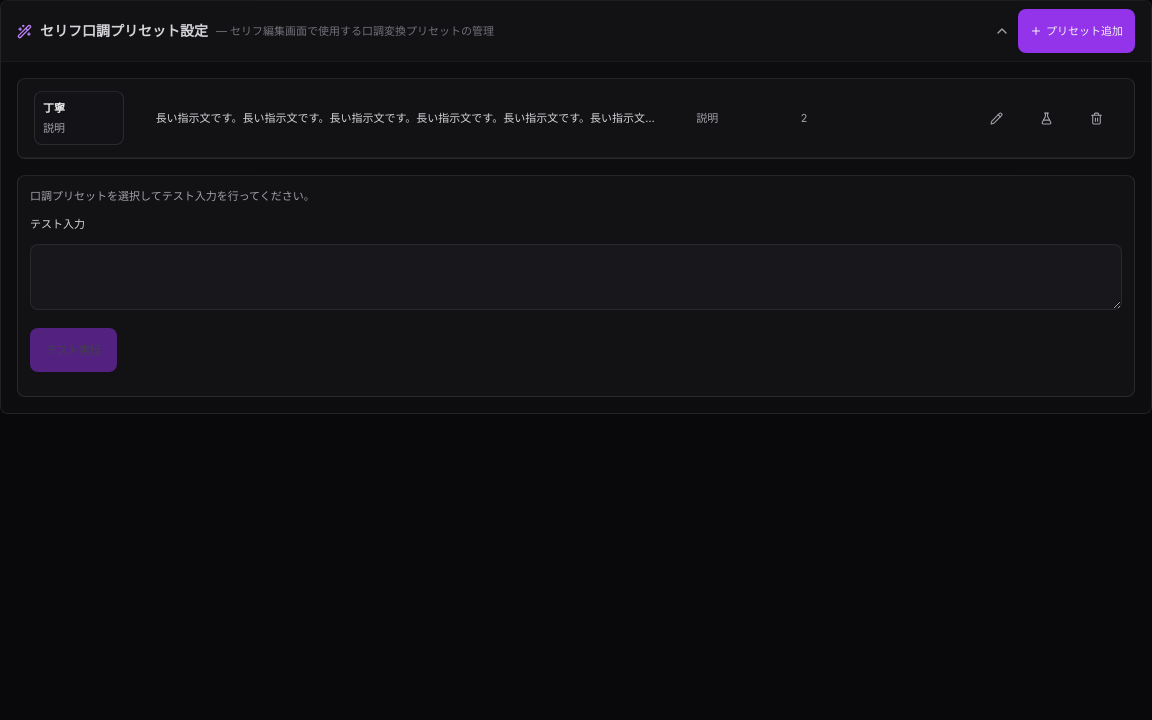
SpeechToneSection › [REQ-381/AC-8] failed Save keeps the real modal draft and exposes the server error
The width and height of the screenshot is (1152, 720).
Check: the element "丁寧" is shown, box 34,91 -> 124,145
Click the button titled "編集" at {"x": 996, "y": 118}, box 974,96 -> 1018,140
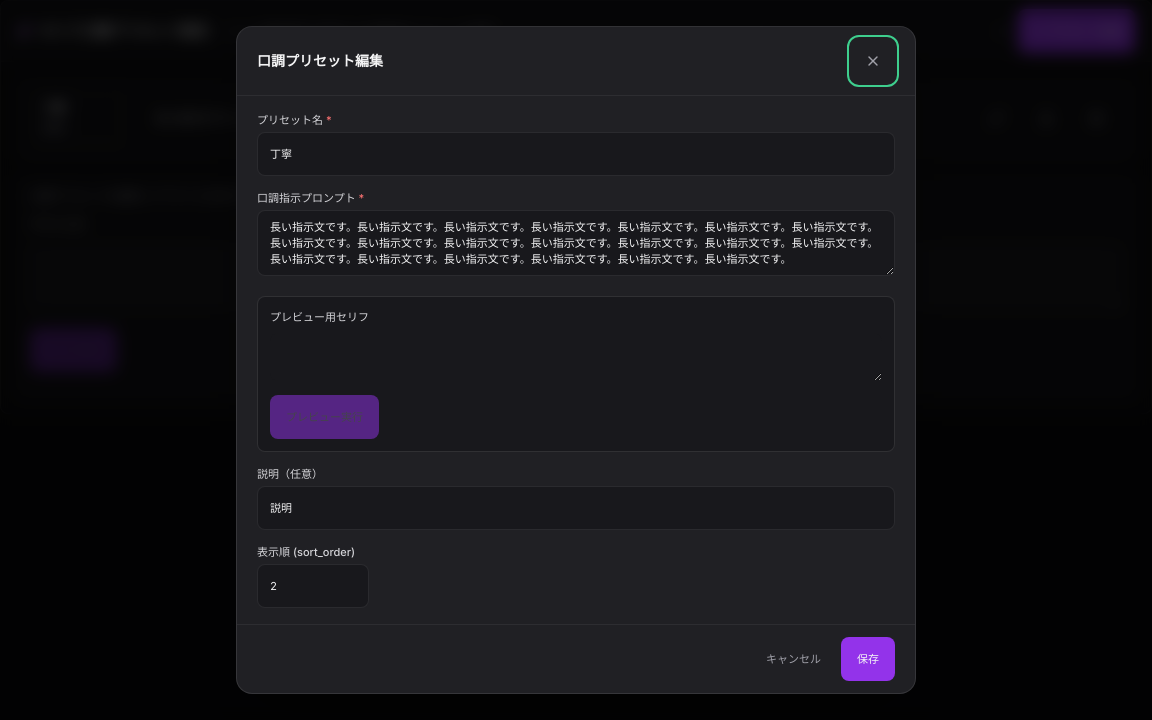
Replace the text in the 1st field showing "丁寧" with "保持される名前" at {"x": 576, "y": 154}, box 257,132 -> 895,176
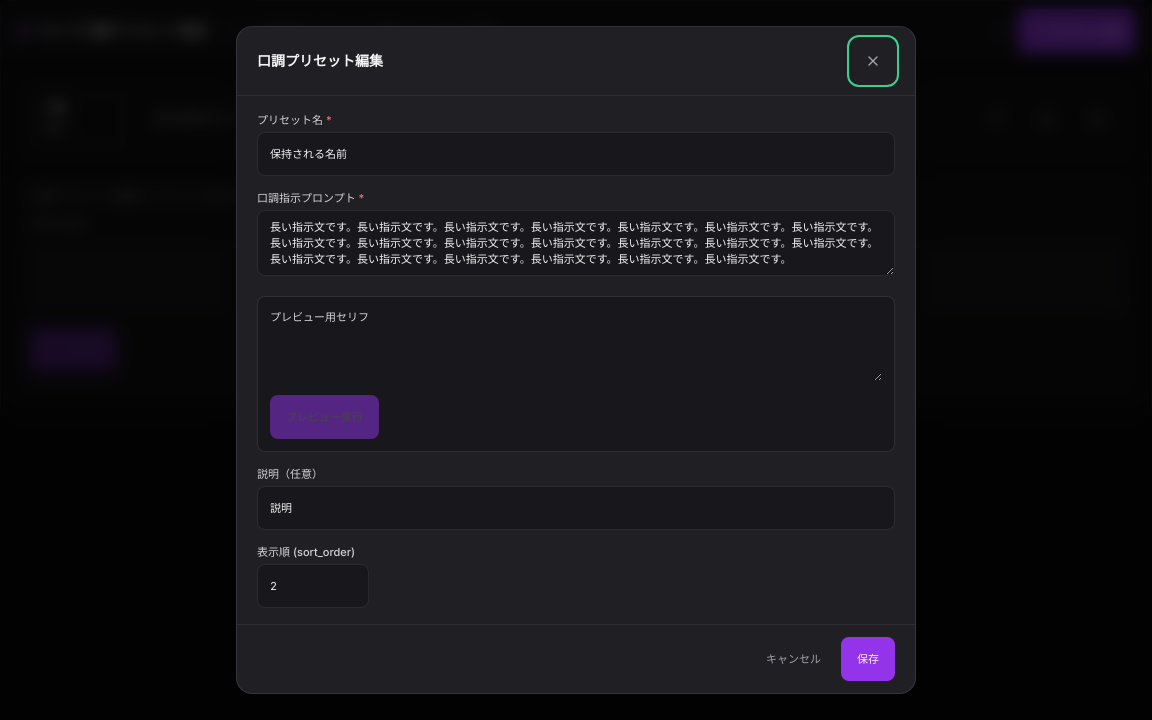
Click the button "保存" at {"x": 868, "y": 659}, box 841,637 -> 895,681
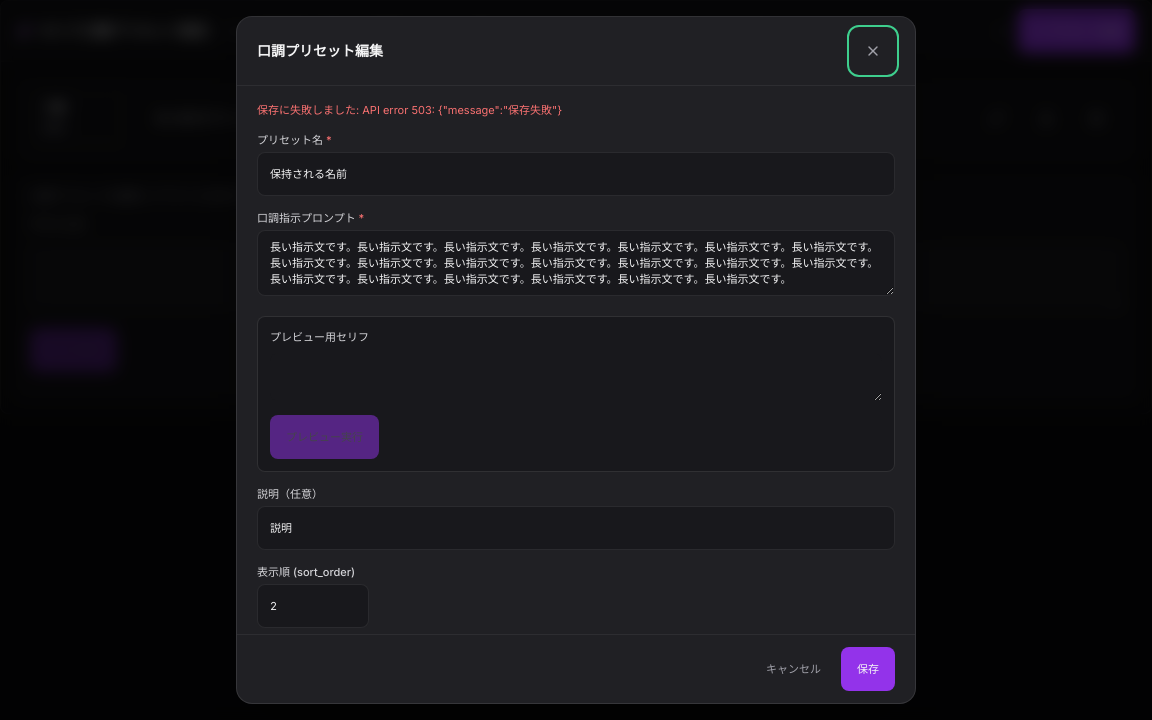
Check: the message shows "保存に失敗しました", box 257,103 -> 362,117
